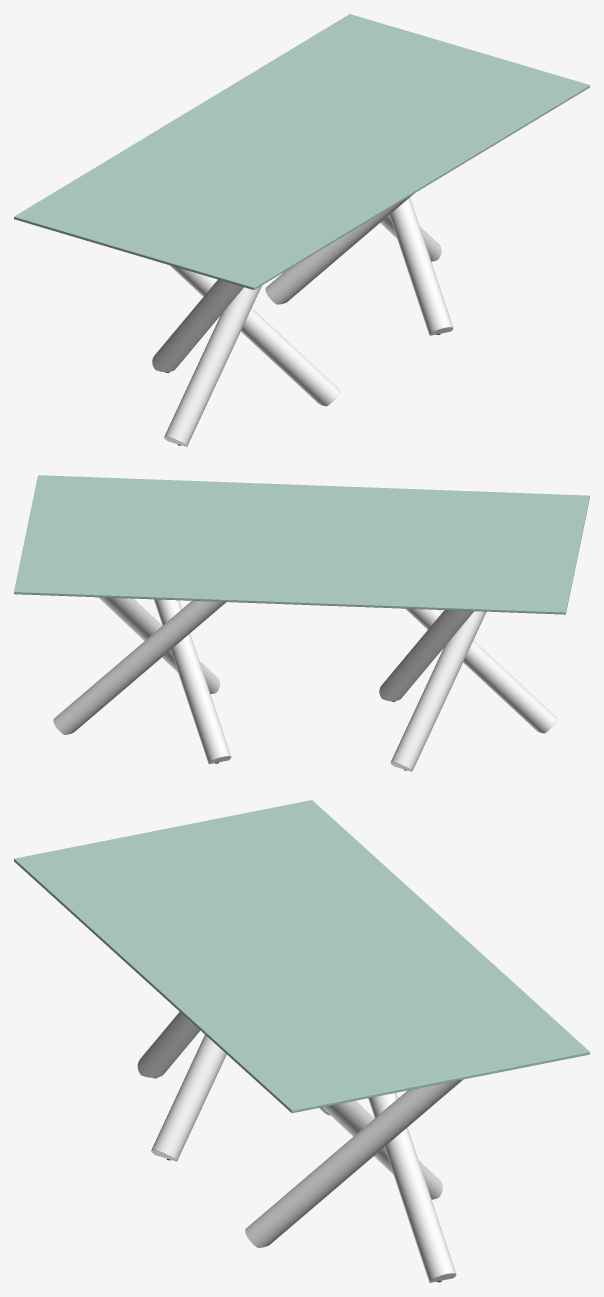
File: table_stant.gltf
3 renders of one model, top to bottom at view 1: azimuth 30°, elevation 25°; view 2: azimuth 150°, elevation 25°; view 3: azimuth 270°, elevation 25°, orthographic. The views are drawn at different scales.
Parts seen in each view (by area): view 1: Rectangle002, Circle008_Chrome Polished_0, Circle006_Chrome Polished_0, Circle005_Chrome Polished_0, Circle007_Chrome Polished_0, Circle004_Chrome Polished_0; view 2: Rectangle002, Circle003_Chrome Polished_0, Circle007_Chrome Polished_0, Circle004_Chrome Polished_0, Circle008_Chrome Polished_0, Circle006_Chrome Polished_0, Circle005_Chrome Polished_0; view 3: Rectangle002, Circle005_Chrome Polished_0, Circle003_Chrome Polished_0, Circle006_Chrome Polished_0, Circle008_Chrome Polished_0, Circle004_Chrome Polished_0.
Boxes of the visible parts, <box> form: Rectangle002: <box>14,14,589,289</box>; Circle008_Chrome Polished_0: <box>164,285,261,446</box>; Circle006_Chrome Polished_0: <box>170,265,339,406</box>; Circle005_Chrome Polished_0: <box>389,197,453,335</box>; Circle007_Chrome Polished_0: <box>152,279,243,372</box>; Circle004_Chrome Polished_0: <box>265,194,413,304</box>; Rectangle002: <box>14,475,589,614</box>; Circle003_Chrome Polished_0: <box>53,600,226,734</box>; Circle007_Chrome Polished_0: <box>390,611,486,771</box>; Circle004_Chrome Polished_0: <box>154,599,231,764</box>; Circle008_Chrome Polished_0: <box>405,608,557,733</box>; Circle006_Chrome Polished_0: <box>379,610,473,701</box>; Circle005_Chrome Polished_0: <box>98,597,220,694</box>; Rectangle002: <box>14,800,589,1112</box>; Circle005_Chrome Polished_0: <box>245,1079,462,1247</box>; Circle003_Chrome Polished_0: <box>368,1093,456,1282</box>; Circle006_Chrome Polished_0: <box>151,1035,226,1161</box>; Circle008_Chrome Polished_0: <box>137,1012,200,1077</box>; Circle004_Chrome Polished_0: <box>322,1100,442,1199</box>.
Bounding box in the file's own units: 2234 × 754 × 1751.
